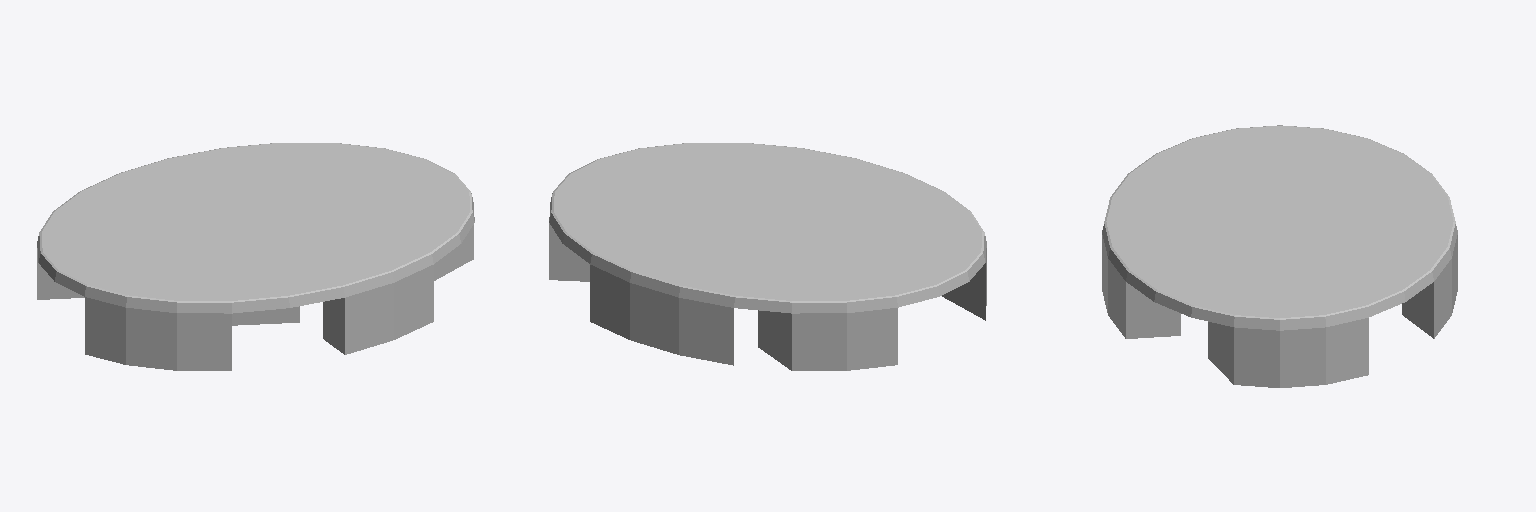
Rendered from Conference table.obj.
The picture shows the model from 3 angles: view 1: azimuth 30°, elevation 25°; view 2: azimuth 150°, elevation 25°; view 3: azimuth 270°, elevation 25°; orthographic projection.
Parts seen in each view (by area): view 1: pDisc1 group1; view 2: pDisc1 group1; view 3: pDisc1 group1.
Part boxes in pixels (bbox=[...]): pDisc1 group1: bbox=[37, 143, 474, 370]; pDisc1 group1: bbox=[549, 143, 986, 370]; pDisc1 group1: bbox=[1102, 125, 1457, 387].
Bounding box in the file's own units: 470 × 76.01 × 360.